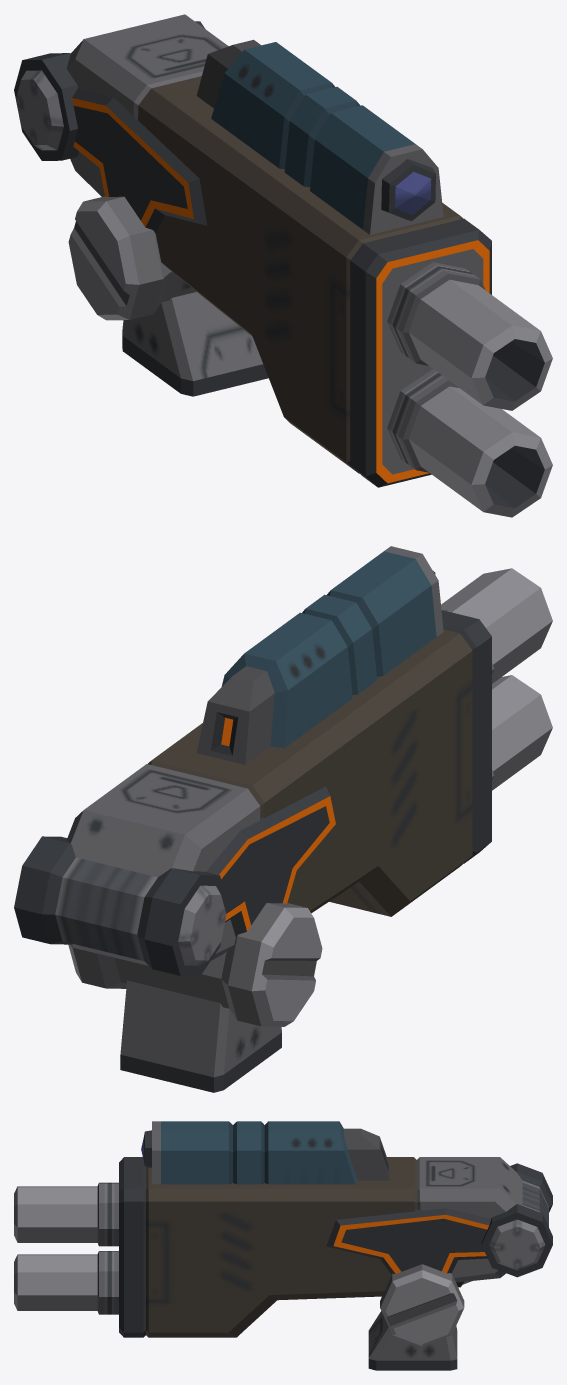
File: SM_Mech_Arm_01_Weapon_Forearm_01.fbx
3 views of the same model, one above another, from view 1: azimuth 30°, elevation 25°; view 2: azimuth 150°, elevation 25°; view 3: azimuth 270°, elevation 25° (orthographic). The views are drawn at different scales.
Parts seen in each view (by area): view 1: SM_Mech_Arm_01_Weapon_Forearm_01; view 2: SM_Mech_Arm_01_Weapon_Forearm_01; view 3: SM_Mech_Arm_01_Weapon_Forearm_01.
Boxes of the visible parts, left/top/right/bottom form: SM_Mech_Arm_01_Weapon_Forearm_01: left=14, top=14, right=552, bottom=517; SM_Mech_Arm_01_Weapon_Forearm_01: left=14, top=546, right=552, bottom=1092; SM_Mech_Arm_01_Weapon_Forearm_01: left=14, top=1121, right=552, bottom=1370.
Bounding box in the file's own units: 31.35 × 54.11 × 116.
